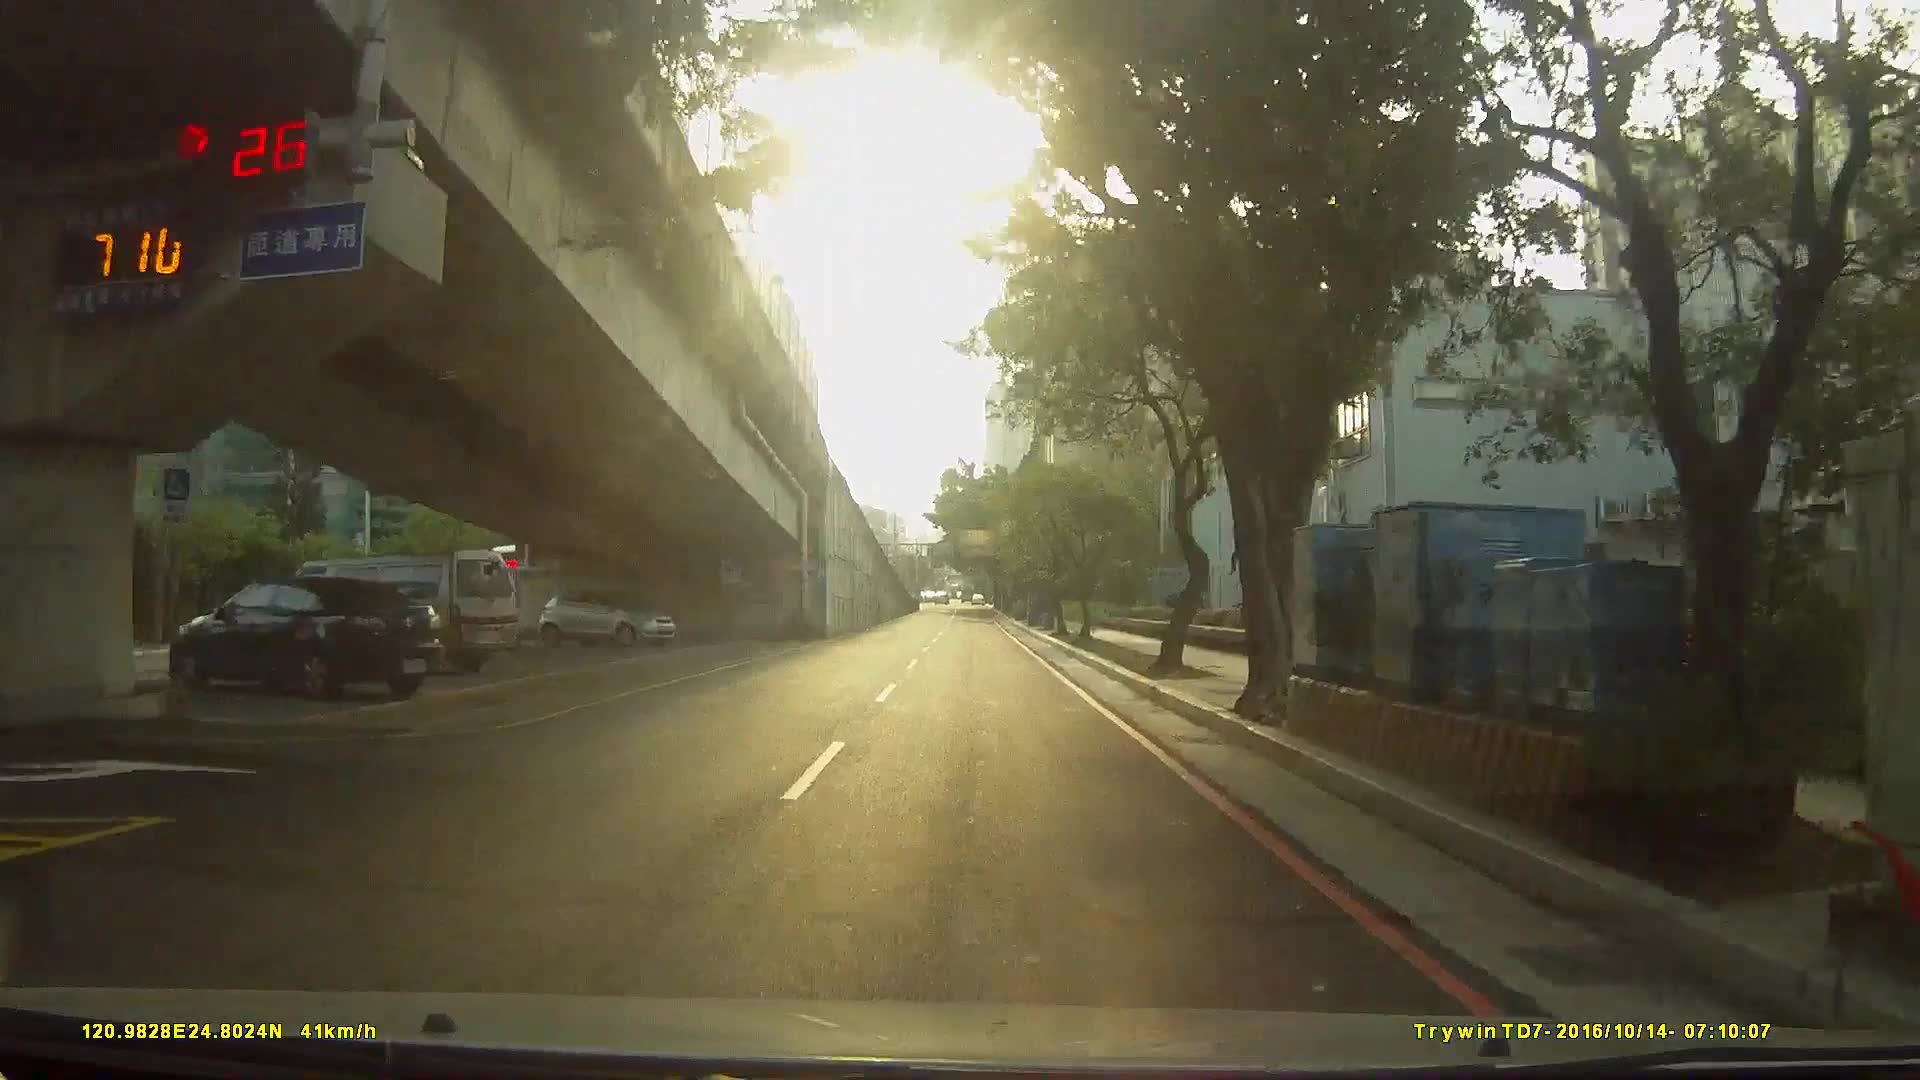vehicle: (149, 578, 448, 713), (256, 551, 524, 694), (531, 591, 673, 655)
